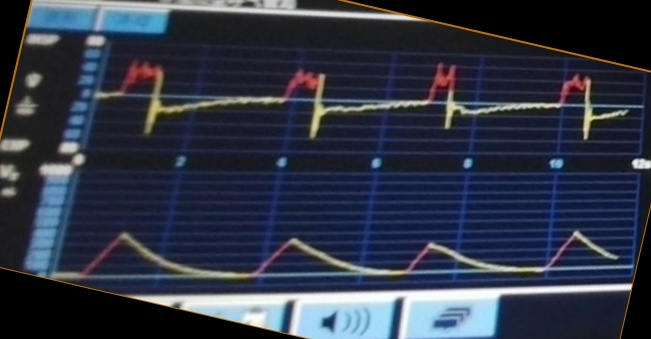Accumulation Flow: (107, 57, 599, 157)
Volume: (73, 202, 621, 282)
